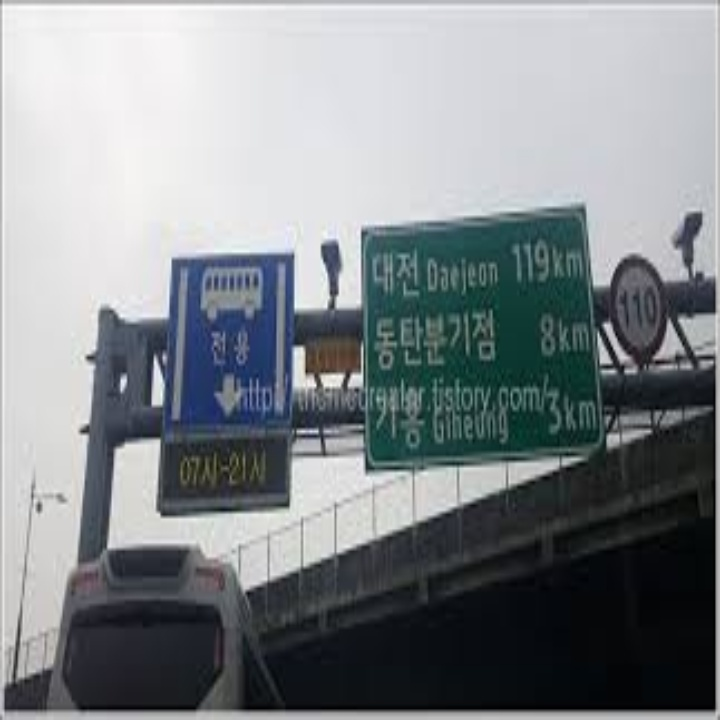bus: (195, 262, 265, 322)
